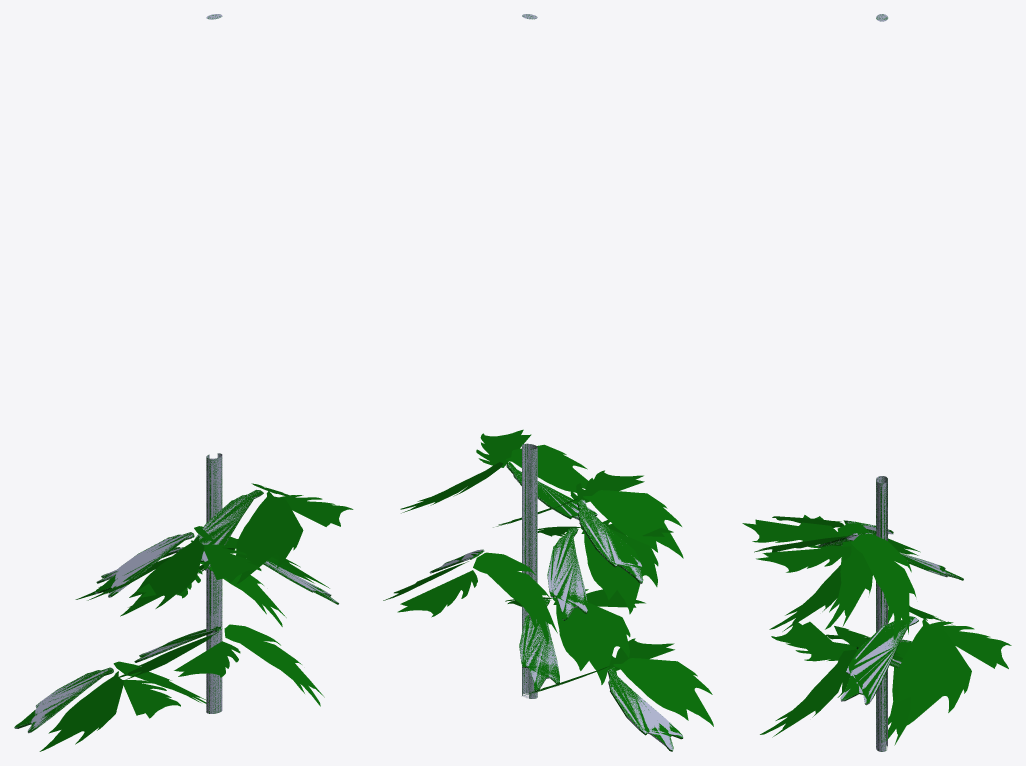
The model's file is rosii_ffmici.fbx.
The picture shows the model from 3 angles, left to right: view 1: azimuth 30°, elevation 25°; view 2: azimuth 150°, elevation 25°; view 3: azimuth 270°, elevation 25°; orthographic projection. The views are drawn at different scales.
Parts seen in each view (by area): view 1: Group3, Group6, Group1, Group4, Group_2_1, Group8, Group9; view 2: Group3, Group1, Group4, Group8, Group9, Group6, Group_2_1; view 3: Group9, Group6, Group1, Group4, Group8, Group_2_1, Group3.
Part boxes in pixels (bbox=[...]): Group3: bbox=[14, 661, 206, 751]; Group6: bbox=[194, 483, 353, 584]; Group1: bbox=[95, 526, 298, 616]; Group4: bbox=[119, 624, 324, 706]; Group_2_1: bbox=[206, 14, 222, 713]; Group8: bbox=[75, 547, 286, 626]; Group9: bbox=[128, 539, 338, 607]; Group3: bbox=[526, 638, 713, 751]; Group1: bbox=[493, 470, 683, 583]; Group4: bbox=[505, 589, 645, 691]; Group8: bbox=[537, 520, 673, 620]; Group9: bbox=[383, 549, 557, 644]; Group6: bbox=[400, 429, 597, 519]; Group_2_1: bbox=[522, 14, 537, 698]; Group9: bbox=[840, 605, 1011, 725]; Group6: bbox=[754, 532, 916, 640]; Group1: bbox=[742, 516, 893, 629]; Group4: bbox=[760, 621, 902, 737]; Group8: bbox=[769, 515, 963, 631]; Group_2_1: bbox=[876, 14, 887, 751]; Group3: bbox=[804, 634, 912, 745].
Bounding box in the file's own units: 23.55 × 50.5 × 16.91.
